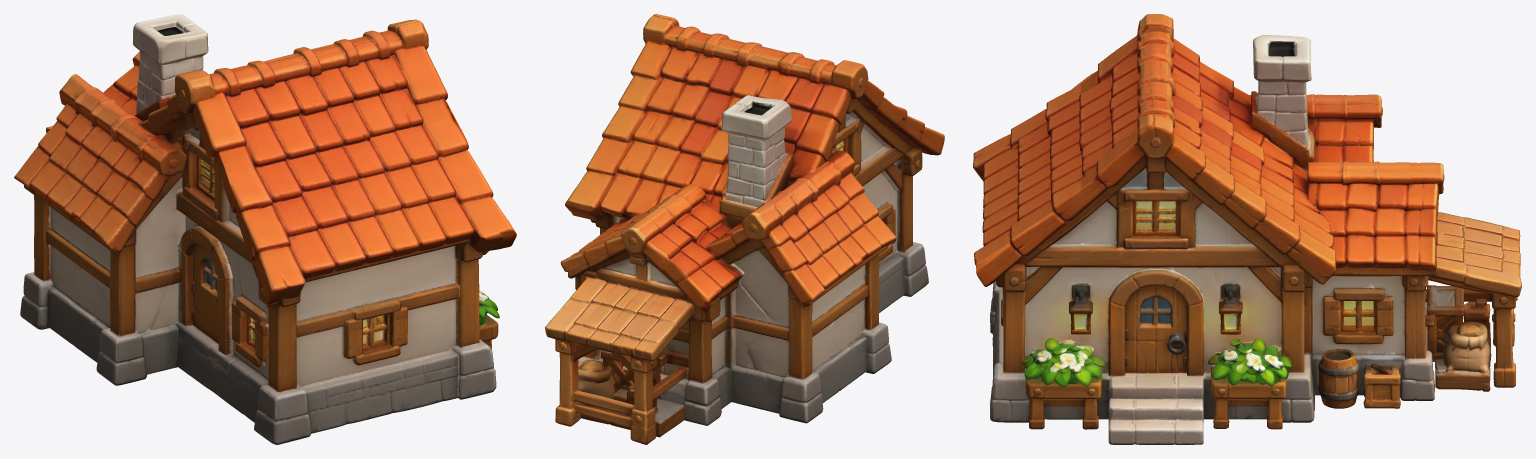
File: house-clean.glb
3 views of the same model, side by side, from view 1: azimuth 30°, elevation 25°; view 2: azimuth 150°, elevation 25°; view 3: azimuth 270°, elevation 25° (orthographic). The views are drawn at different scales.
Parts seen in each view (by area): view 1: tripo_node_b0e1de16-7461-4dd1-a93d-4e21af9ac637; view 2: tripo_node_b0e1de16-7461-4dd1-a93d-4e21af9ac637; view 3: tripo_node_b0e1de16-7461-4dd1-a93d-4e21af9ac637.
Boxes of the visible parts, box(x1,y1,x2,y2) form: tripo_node_b0e1de16-7461-4dd1-a93d-4e21af9ac637: box(14, 14, 516, 444); tripo_node_b0e1de16-7461-4dd1-a93d-4e21af9ac637: box(545, 14, 944, 444); tripo_node_b0e1de16-7461-4dd1-a93d-4e21af9ac637: box(973, 14, 1521, 444).
Bounding box in the file's own units: 0.6945 × 0.6069 × 0.9998.
1 material, 1 textured.
